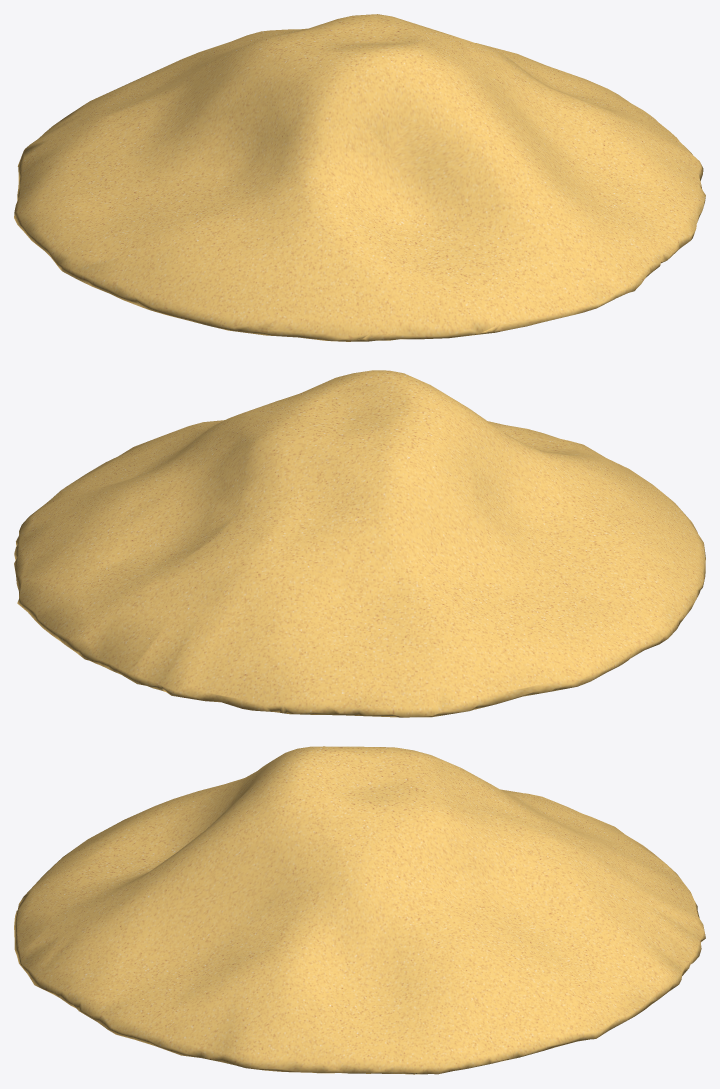
Rendered from Sand_pile.fbx.
3 views of the same model, one above another, from view 1: azimuth 30°, elevation 25°; view 2: azimuth 150°, elevation 25°; view 3: azimuth 270°, elevation 25° (orthographic). The views are drawn at different scales.
Visible parts, largest first — view 1: Plane; view 2: Plane; view 3: Plane.
Part boxes in pixels (x1,y1,x2,y2): Plane: (14, 14, 705, 341); Plane: (14, 370, 705, 717); Plane: (14, 746, 705, 1074).
Bounding box in the file's own units: 495 × 140 × 502.
